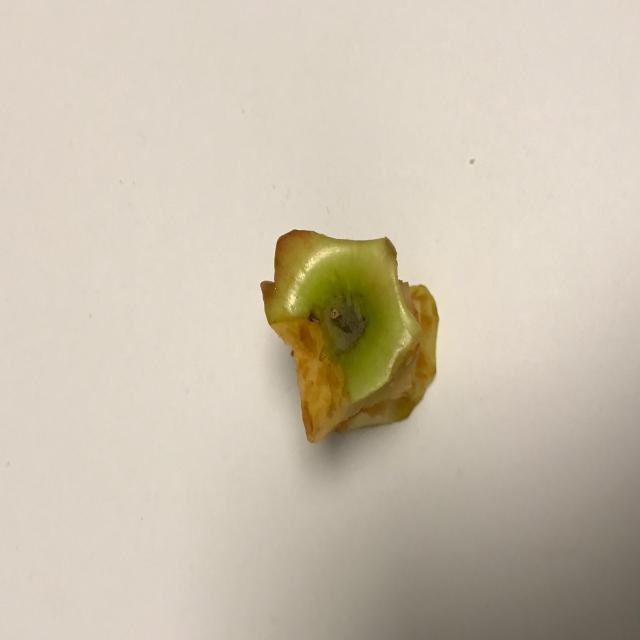trash: (260, 227, 439, 444)
